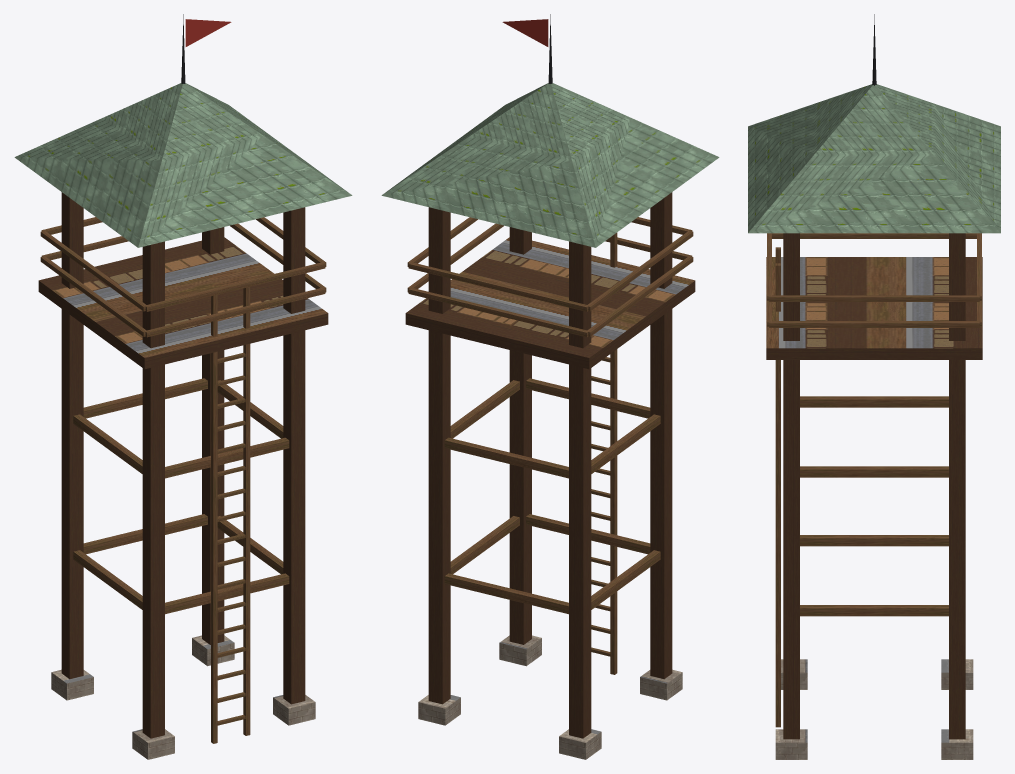
The model's file is lookout.glb.
The picture shows the model from 3 angles, left to right: view 1: azimuth 30°, elevation 25°; view 2: azimuth 150°, elevation 25°; view 3: azimuth 270°, elevation 25°; orthographic projection. The views are drawn at different scales.
Visible parts, largest first — view 1: Roof.045, Platform.017, Beam.001, Beam.005, Beam.003, Beam.007, Beam.027, Beam.026, Beam.018, Beam.022, Beam.009, Beam.013 (+14 smaller); view 2: Roof.045, Platform.017, Beam.003, Beam.007, Beam.001, Beam.005, Beam.026, Beam.014, Beam.010, Beam.023, Beam.019, Beam.013 (+13 smaller); view 3: Roof.045, Platform.017, Beam.005, Beam.007, Beam.027, Beam.011, Beam.012, Beam.015, Beam.016, Beam.021, Beam.025, Beam.020 (+3 smaller).
Boxes of the visible parts, <box> form: Roof.045: <box>14,83,352,247</box>; Platform.017: <box>38,237,328,369</box>; Beam.001: <box>142,241,164,738</box>; Beam.005: <box>283,207,305,704</box>; Beam.003: <box>61,192,83,679</box>; Beam.007: <box>202,227,224,644</box>; Beam.027: <box>243,287,250,735</box>; Beam.026: <box>211,295,217,743</box>; Beam.018: <box>145,287,325,337</box>; Beam.022: <box>145,262,325,311</box>; Beam.009: <box>165,573,289,614</box>; Beam.013: <box>165,437,289,478</box>; Roof.045: <box>381,83,719,247</box>; Platform.017: <box>405,237,695,369</box>; Beam.003: <box>569,241,591,738</box>; Beam.007: <box>428,207,450,704</box>; Beam.001: <box>650,192,672,679</box>; Beam.005: <box>509,227,531,644</box>; Beam.026: <box>610,232,617,674</box>; Beam.014: <box>444,437,568,478</box>; Beam.010: <box>444,573,568,614</box>; Beam.023: <box>408,262,588,311</box>; Beam.019: <box>408,288,588,337</box>; Beam.013: <box>526,378,650,418</box>; Roof.045: <box>748,84,1000,233</box>; Platform.017: <box>766,257,982,359</box>; Beam.005: <box>783,233,799,739</box>; Beam.007: <box>949,233,965,739</box>; Beam.027: <box>775,263,780,727</box>; Beam.011: <box>800,535,948,546</box>; Beam.012: <box>800,605,948,616</box>; Beam.015: <box>800,396,948,407</box>; Beam.016: <box>800,466,948,477</box>; Beam.021: <box>769,321,979,327</box>; Beam.025: <box>769,295,979,301</box>; Beam.020: <box>772,233,976,238</box>.
Bounding box in the file's own units: 3.97 × 12.2 × 3.97.
5 materials, 3 textured.
